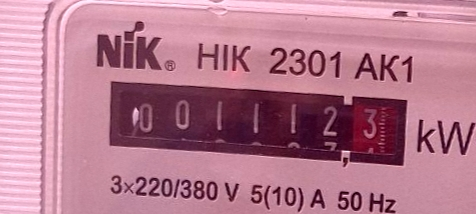0: (169, 95, 194, 135), (133, 98, 158, 135)
1: (208, 95, 230, 135), (246, 98, 264, 137), (284, 100, 302, 138)
2: (317, 103, 342, 141)
3: (358, 106, 379, 142)
screen: (97, 68, 416, 178)
